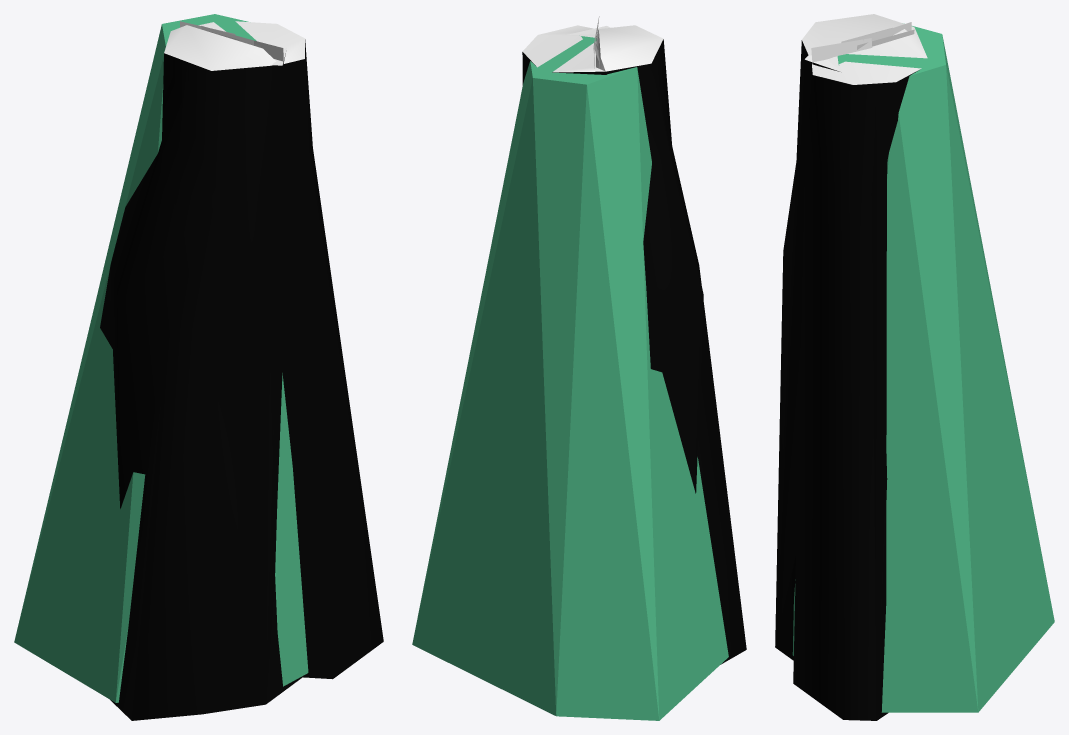
The model's file is tree_beech_chopped_a.dae.
The picture shows the model from 3 angles, left to right: view 1: azimuth 30°, elevation 25°; view 2: azimuth 150°, elevation 25°; view 3: azimuth 270°, elevation 25°; orthographic projection. The views are drawn at different scales.
Visible parts, largest first — view 1: tree_oak_large_c180, Colmesh-1, tree_oak_large_c100; view 2: Colmesh-1, tree_oak_large_c180, tree_oak_large_c100; view 3: Colmesh-1, tree_oak_large_c180, tree_oak_large_c100.
Part boxes in pixels (x1,y1,x2,y2): tree_oak_large_c180: [100, 21, 383, 720]; Colmesh-1: [14, 14, 308, 702]; tree_oak_large_c100: [110, 47, 302, 720]; Colmesh-1: [412, 36, 728, 720]; tree_oak_large_c180: [522, 16, 746, 645]; tree_oak_large_c100: [567, 26, 746, 664]; Colmesh-1: [792, 23, 1054, 712]; tree_oak_large_c180: [775, 14, 927, 720]; tree_oak_large_c100: [775, 55, 888, 720].
Size of the model in its own units: 1.55 by 1.35 by 3.29.
